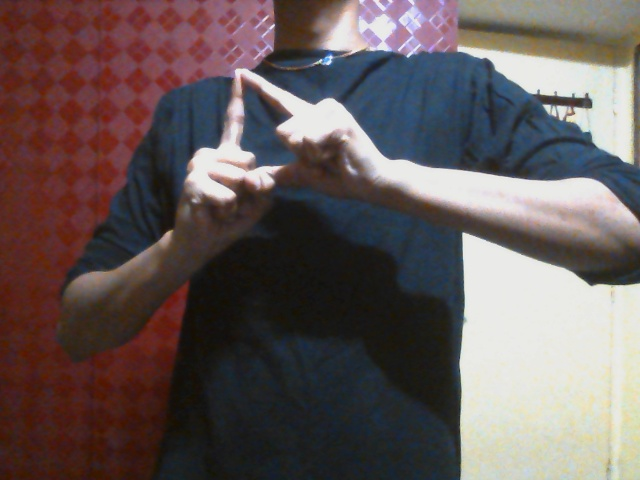D: (173, 67, 395, 263)
